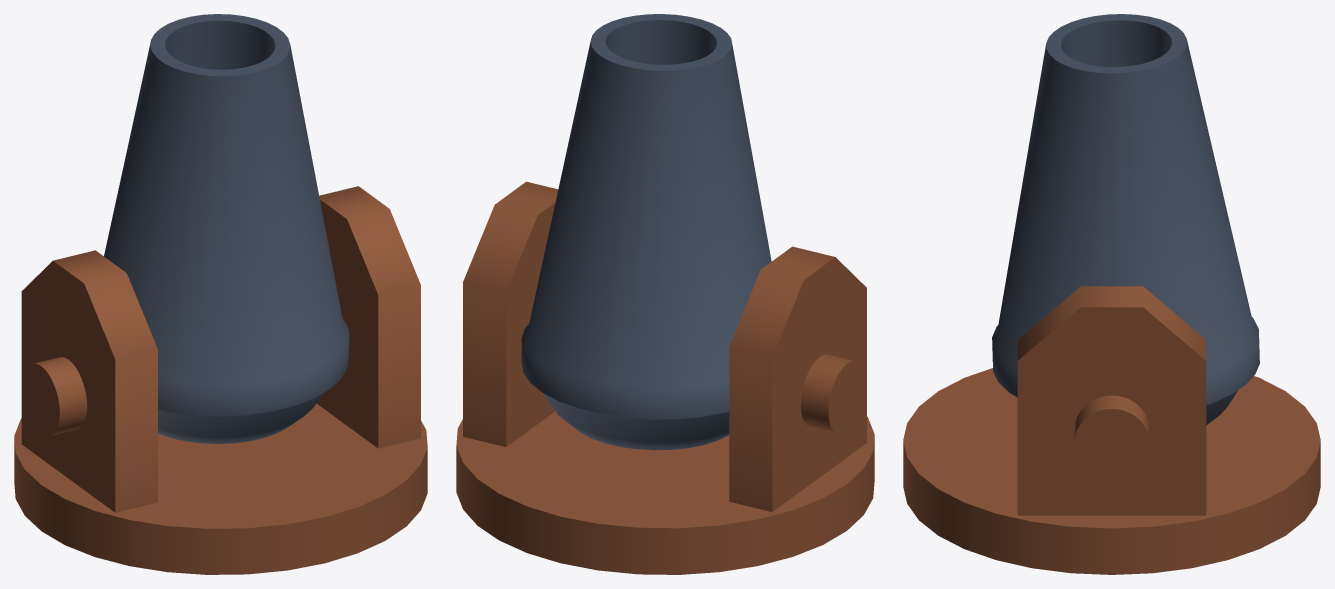
Rendered from cannon.glb.
3 views of the same model, side by side, from view 1: azimuth 30°, elevation 25°; view 2: azimuth 150°, elevation 25°; view 3: azimuth 270°, elevation 25° (orthographic).
Parts seen in each view (by area): view 1: Plane_2; view 2: Plane_2; view 3: Plane_2.
Part boxes in pixels (x1,y1,x2,y2): Plane_2: [14, 14, 427, 574]; Plane_2: [456, 14, 874, 574]; Plane_2: [903, 14, 1320, 574].
Size of the model in its own units: 1.37 by 1.61 by 1.37.
